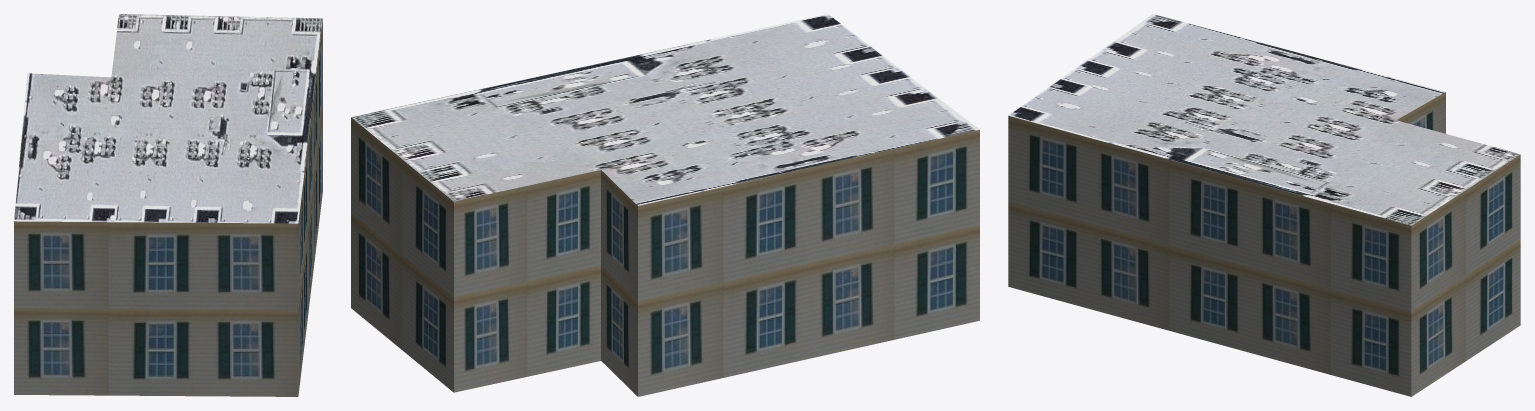
The model's file is ResTex__3090.fbx.
The picture shows the model from 3 angles, left to right: view 1: azimuth 30°, elevation 25°; view 2: azimuth 150°, elevation 25°; view 3: azimuth 270°, elevation 25°; orthographic projection. The views are drawn at different scales.
Parts seen in each view (by area): view 1: CityEngineMaterial_8_m, CityEngineMaterial_7_m; view 2: CityEngineMaterial_7_m, CityEngineMaterial_8_m; view 3: CityEngineMaterial_7_m, CityEngineMaterial_8_m.
Part boxes in pixels (x1=…): CityEngineMaterial_8_m: x1=14, y1=14, x2=322, y2=223; CityEngineMaterial_7_m: x1=14, y1=19, x2=322, y2=396; CityEngineMaterial_7_m: x1=351, y1=117, x2=979, y2=396; CityEngineMaterial_8_m: x1=351, y1=14, x2=979, y2=205; CityEngineMaterial_7_m: x1=1008, y1=92, x2=1520, y2=396; CityEngineMaterial_8_m: x1=1009, y1=14, x2=1520, y2=225.
Size of the model in its own units: 15.93 by 6 by 16.28.
2 materials, 2 textured.
